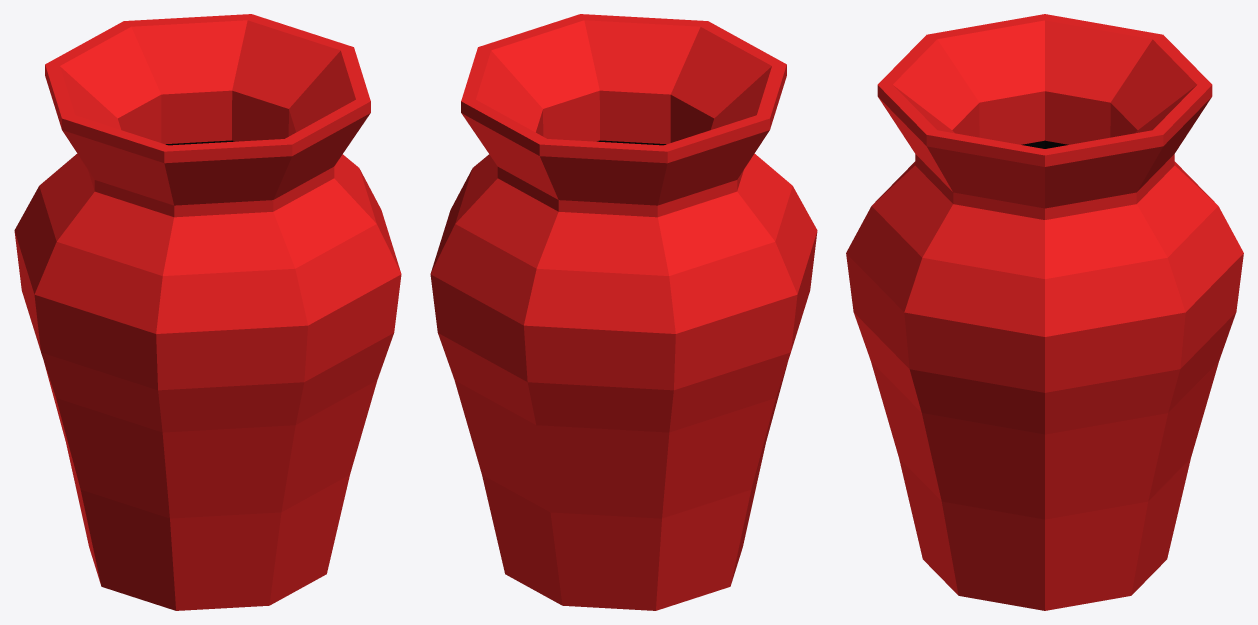
The model's file is Vase.fbx.
3 renders of one model, left to right at view 1: azimuth 30°, elevation 25°; view 2: azimuth 150°, elevation 25°; view 3: azimuth 270°, elevation 25°, orthographic.
Visible parts, largest first — view 1: NGon005; view 2: NGon005; view 3: NGon005.
Part boxes in pixels (left/top/right/bottom): NGon005: left=14, top=14, right=401, bottom=610; NGon005: left=430, top=14, right=817, bottom=610; NGon005: left=846, top=14, right=1243, bottom=610.
Bounding box in the file's own units: 70.84 × 93.24 × 70.84.
